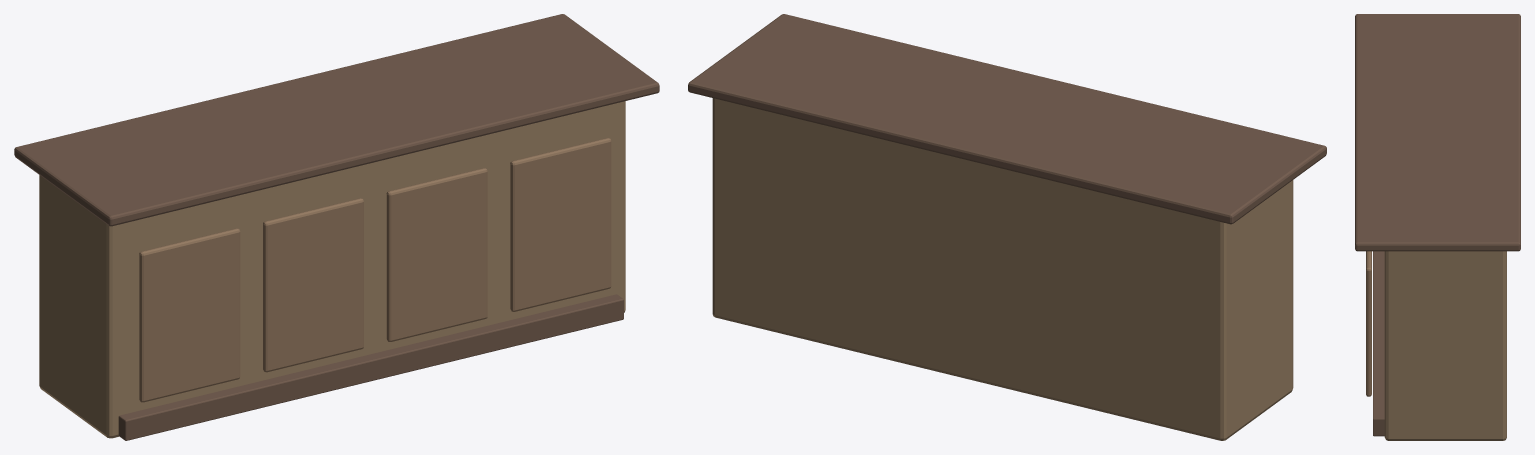
3 renders of one model, left to right at view 1: azimuth 30°, elevation 25°; view 2: azimuth 150°, elevation 25°; view 3: azimuth 270°, elevation 25°, orthographic. The views are drawn at different scales.
Visible parts, largest first — view 1: counter; view 2: counter; view 3: counter.
Part boxes in pixels (box(x1,y1,x2,y2)): counter: box(14, 14, 659, 440); counter: box(688, 14, 1326, 440); counter: box(1355, 14, 1520, 440).
Size of the model in its own units: 2.76 by 1.15 by 0.84.
